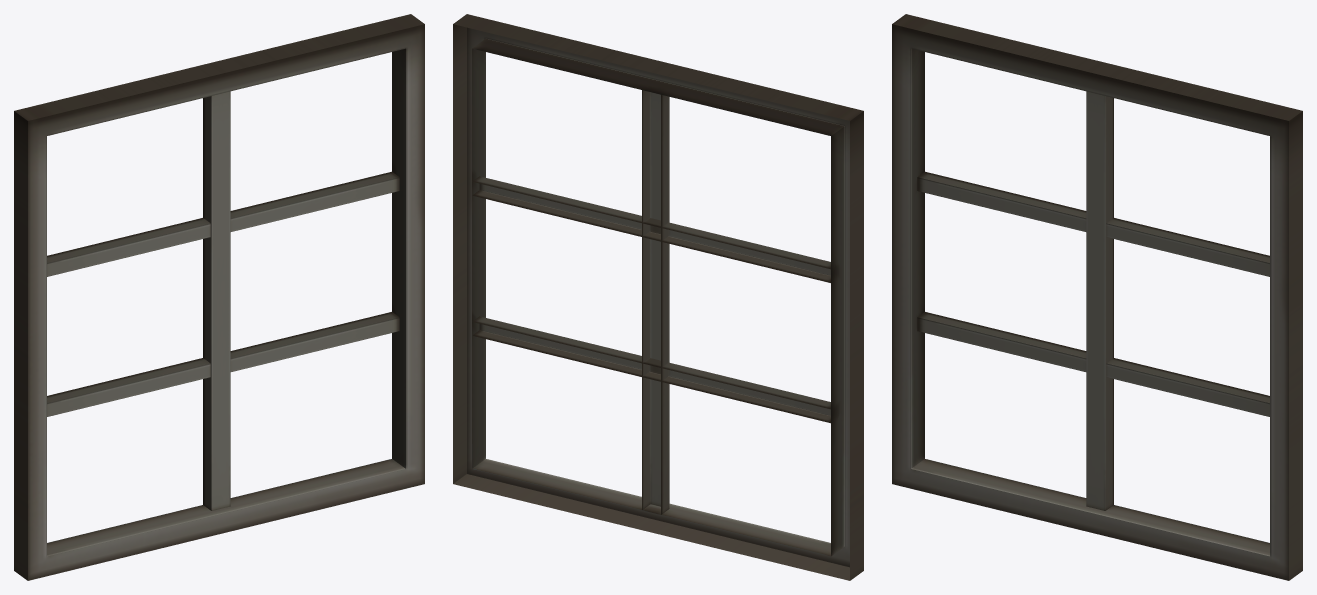
File: sc_qqnm_jz006_2_um.fbx
The picture shows the model from 3 angles, left to right: view 1: azimuth 30°, elevation 25°; view 2: azimuth 150°, elevation 25°; view 3: azimuth 330°, elevation 25°; orthographic projection.
Visible parts, largest first — view 1: qqnm_jz006_2; view 2: qqnm_jz006_2; view 3: qqnm_jz006_2.
Part boxes in pixels (x1,y1,x2,y2): qqnm_jz006_2: (14,14,424,580); qqnm_jz006_2: (453,14,863,580); qqnm_jz006_2: (892,14,1302,580).
Bounding box in the file's own units: 198 × 219 × 11.98.
